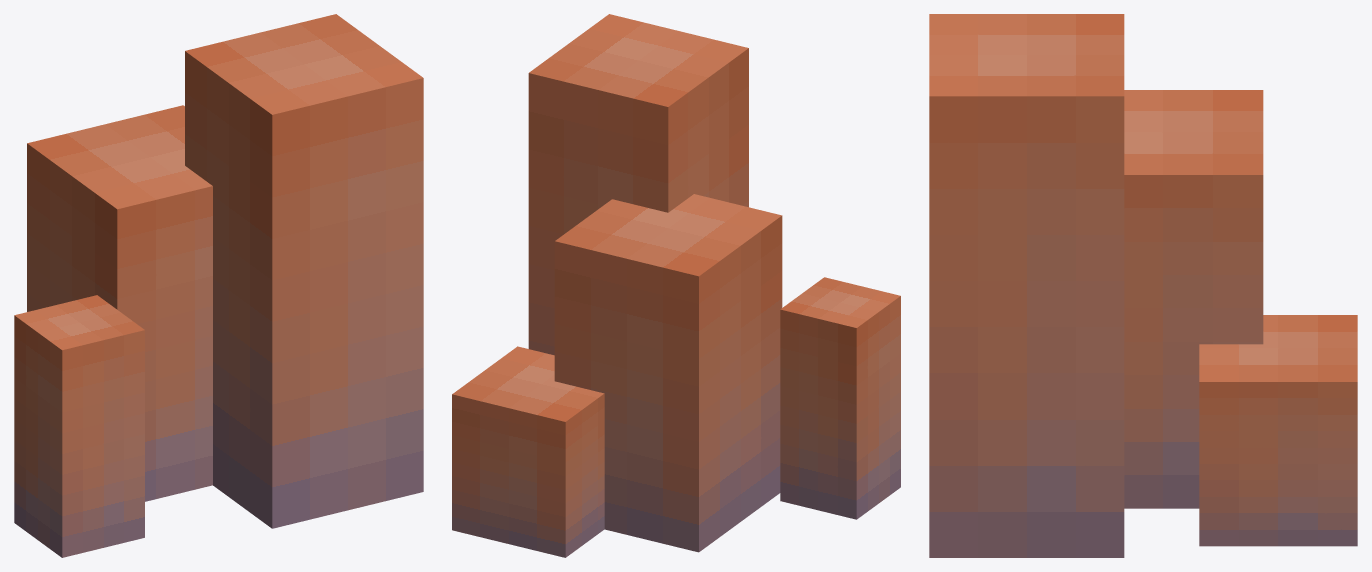
The model's file is sphalerite_crystal_four.obj.
3 renders of one model, left to right at view 1: azimuth 30°, elevation 25°; view 2: azimuth 150°, elevation 25°; view 3: azimuth 270°, elevation 25°, orthographic. The views are drawn at different scales.
Visible parts, largest first — view 1: Crystal5_Cube.008; view 2: Crystal5_Cube.008; view 3: Crystal5_Cube.008.
Boxes of the visible parts, box(x1,y1,x2,y2) form: Crystal5_Cube.008: box(14, 14, 423, 557); Crystal5_Cube.008: box(452, 14, 900, 557); Crystal5_Cube.008: box(929, 14, 1357, 557).
Bounding box in the file's own units: 0.4231 × 0.494 × 0.4151.
